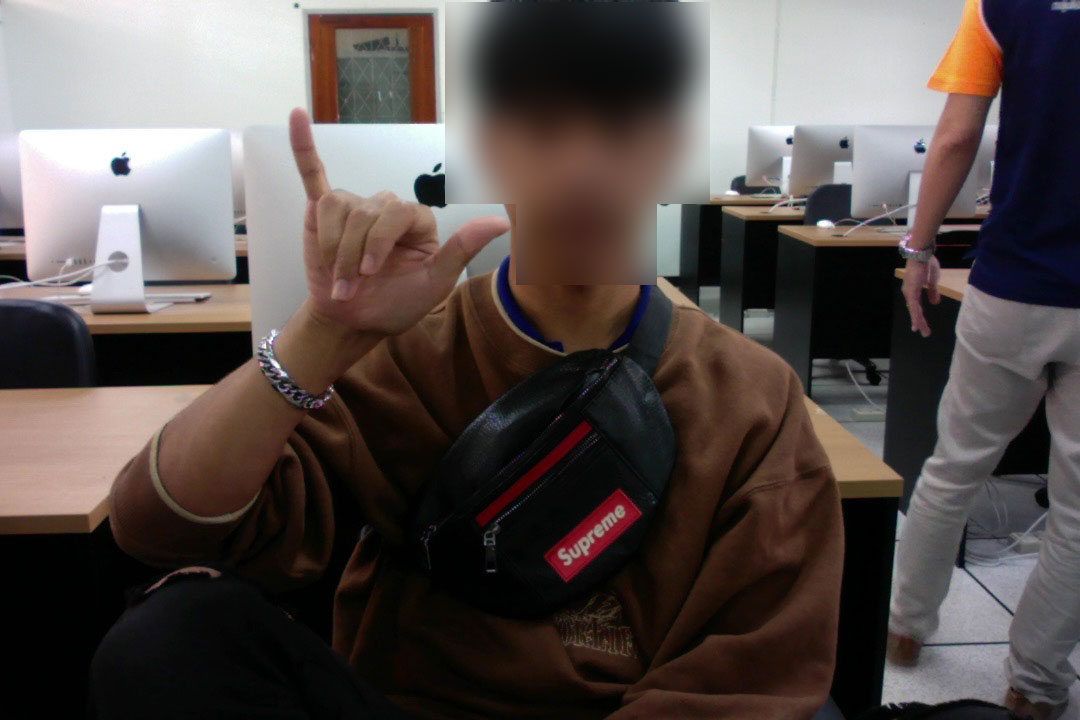yor: (281, 98, 516, 364)
